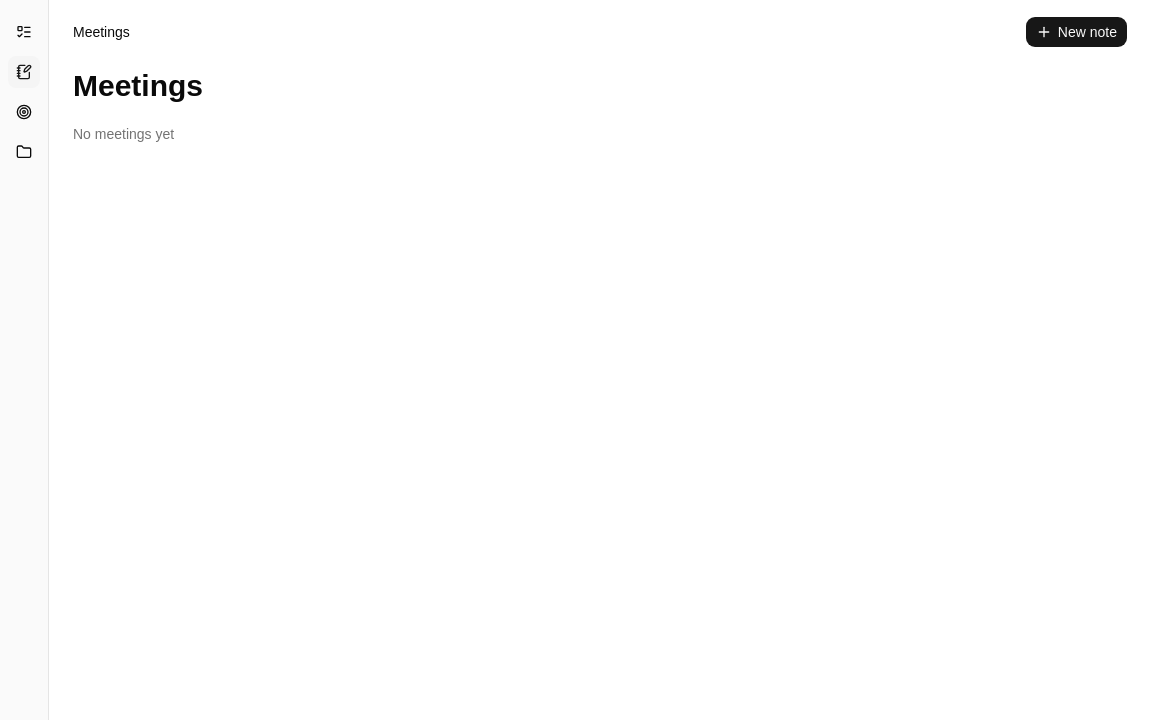
Test: Board › orders Current and the Backlog by the list, the Icebox newest first, and Done by completion, newest first
Click the 1st link named "Work". click: (24, 32)
box: top-left (8, 16), bottom-right (40, 48)
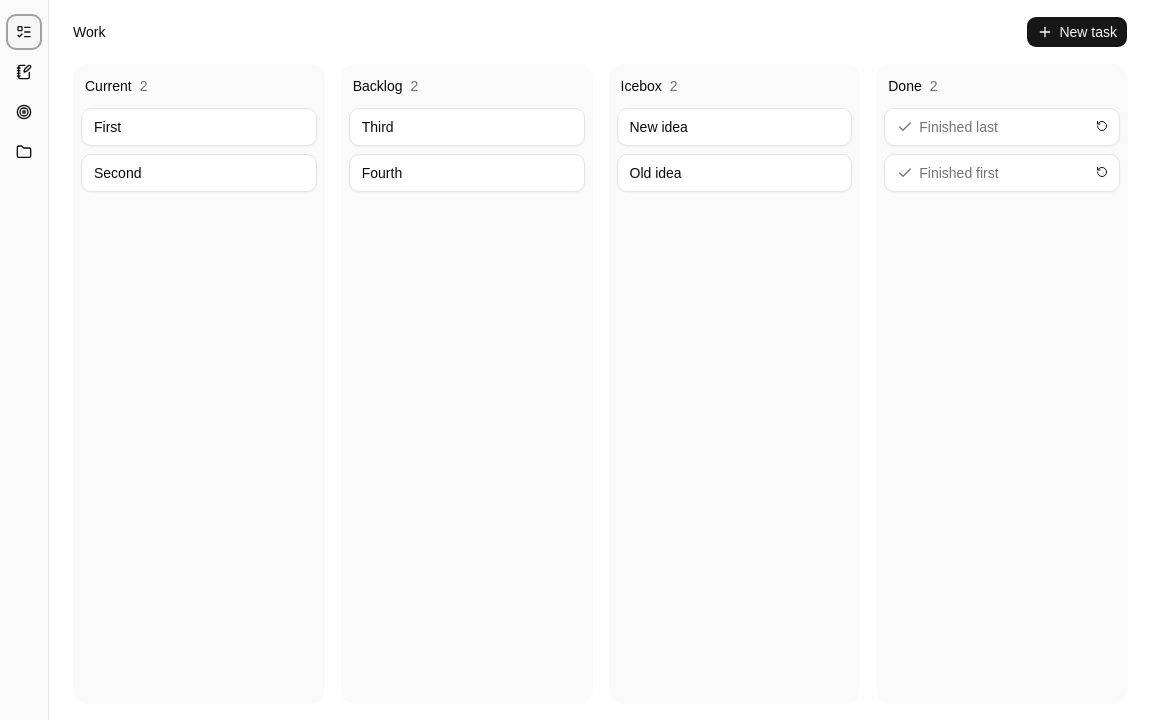
Expected: the button "New task" is shown, top-left (1026, 16), bottom-right (1128, 48)
